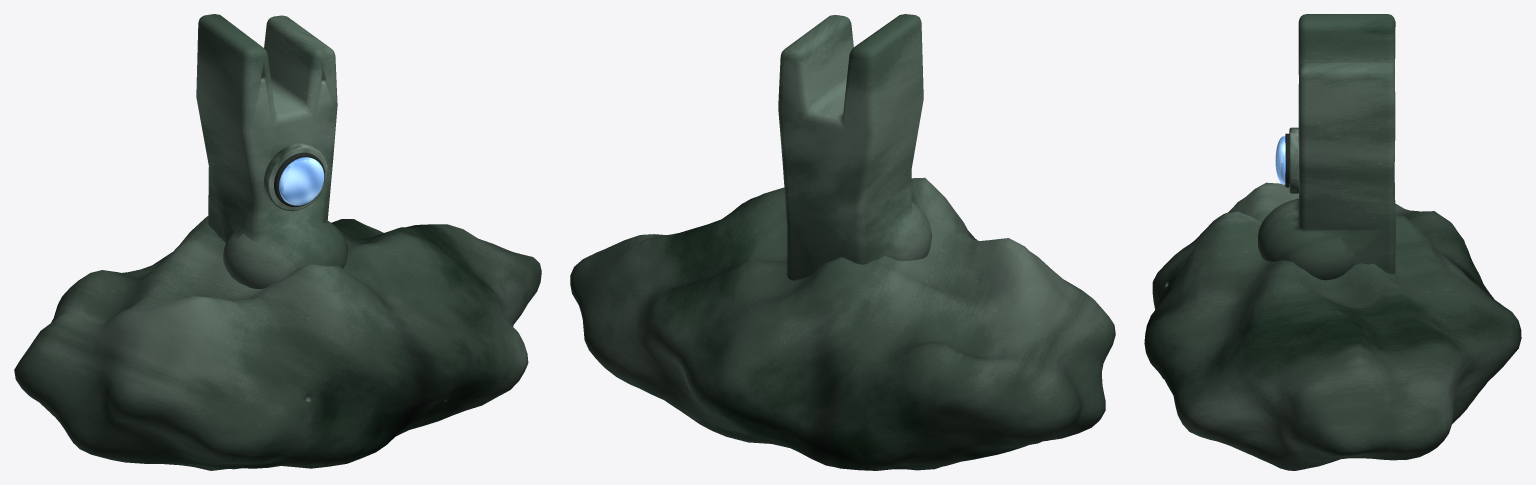
3 renders of one model, left to right at view 1: azimuth 30°, elevation 25°; view 2: azimuth 150°, elevation 25°; view 3: azimuth 270°, elevation 25°, orthographic. The views are drawn at different scales.
Visible parts, largest first — view 1: Merl broad asymmetric mineral mound, Merl compact forked mineral head, Merl pale blue front lens, Merl worn pale lens bezel; view 2: Merl broad asymmetric mineral mound, Merl compact forked mineral head; view 3: Merl broad asymmetric mineral mound, Merl compact forked mineral head, Merl worn pale lens bezel, Merl pale blue front lens.
Boxes of the visible parts, left/top/right/bottom form: Merl broad asymmetric mineral mound: left=14, top=216, right=541, bottom=470; Merl compact forked mineral head: left=196, top=14, right=348, bottom=288; Merl pale blue front lens: left=279, top=157, right=324, bottom=205; Merl worn pale lens bezel: left=263, top=143, right=327, bottom=211; Merl broad asymmetric mineral mound: left=570, top=177, right=1115, bottom=470; Merl compact forked mineral head: left=778, top=14, right=931, bottom=280; Merl broad asymmetric mineral mound: left=1144, top=182, right=1521, bottom=470; Merl compact forked mineral head: left=1258, top=14, right=1395, bottom=280; Merl worn pale lens bezel: left=1289, top=127, right=1298, bottom=193; Merl pale blue front lens: left=1275, top=136, right=1285, bottom=184.
Size of the model in its own units: 1.82 by 1.4 by 1.26.
Materials: 5 (4 with a texture image).
